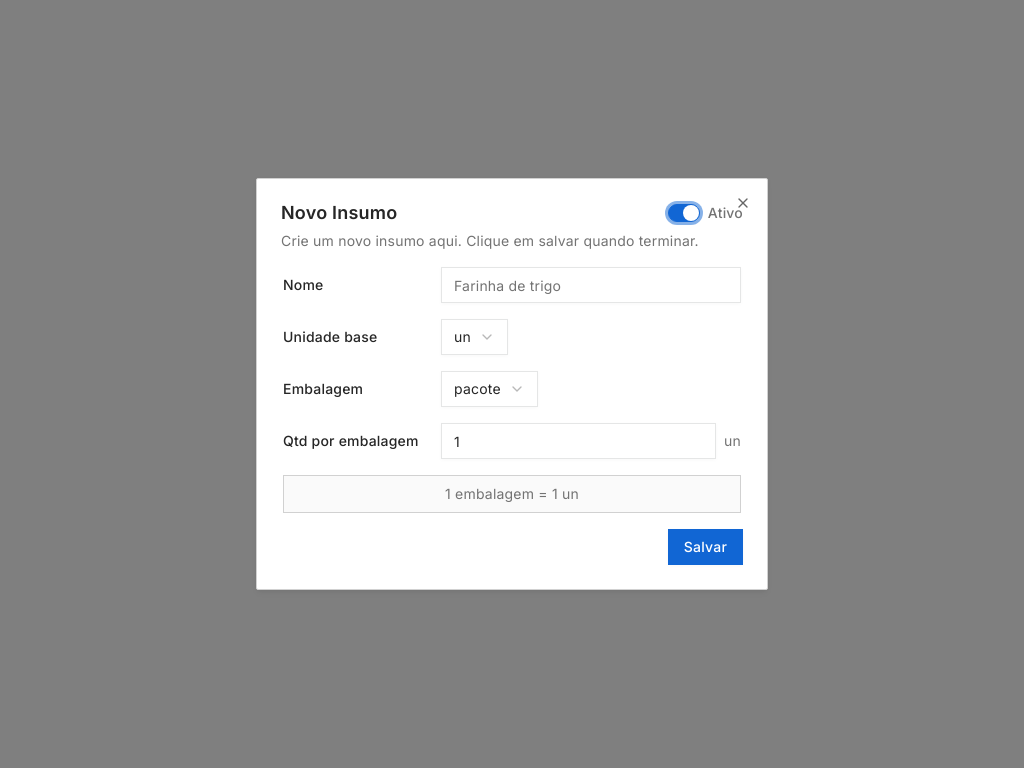
Test case: SuppliesActionDialog › validates required fields before submitting
Clear the field labelled "Nome" at (591, 285), box left=441, top=267, right=741, bottom=303
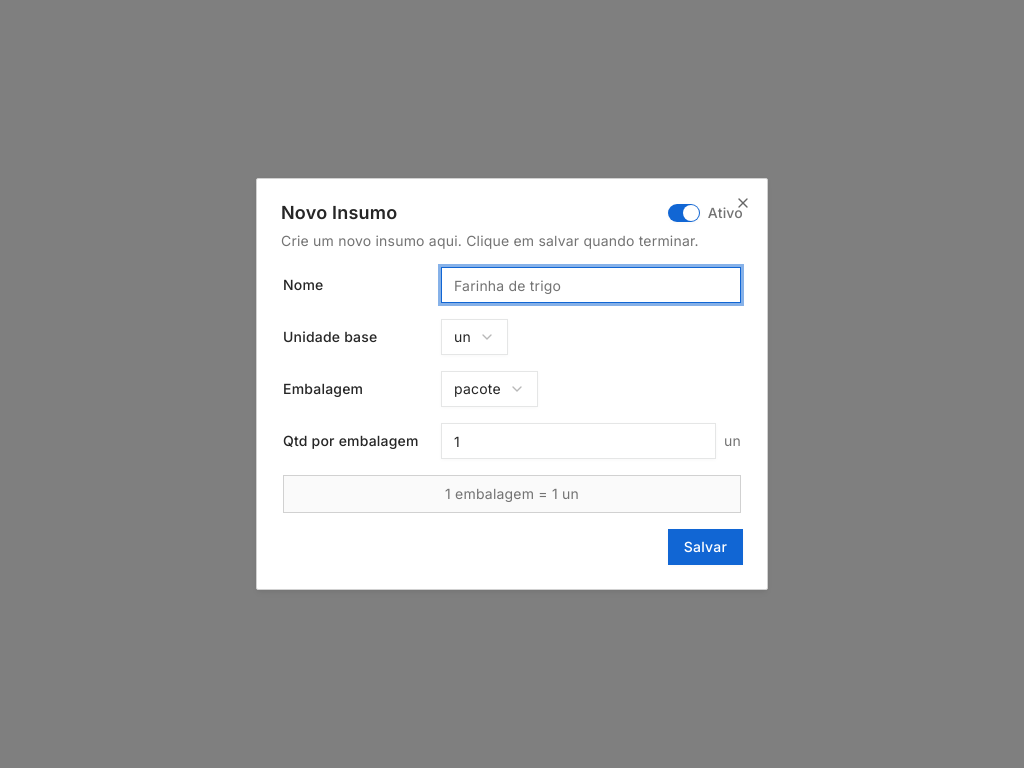
Click the button "Salvar" at (705, 547), box left=668, top=529, right=743, bottom=565
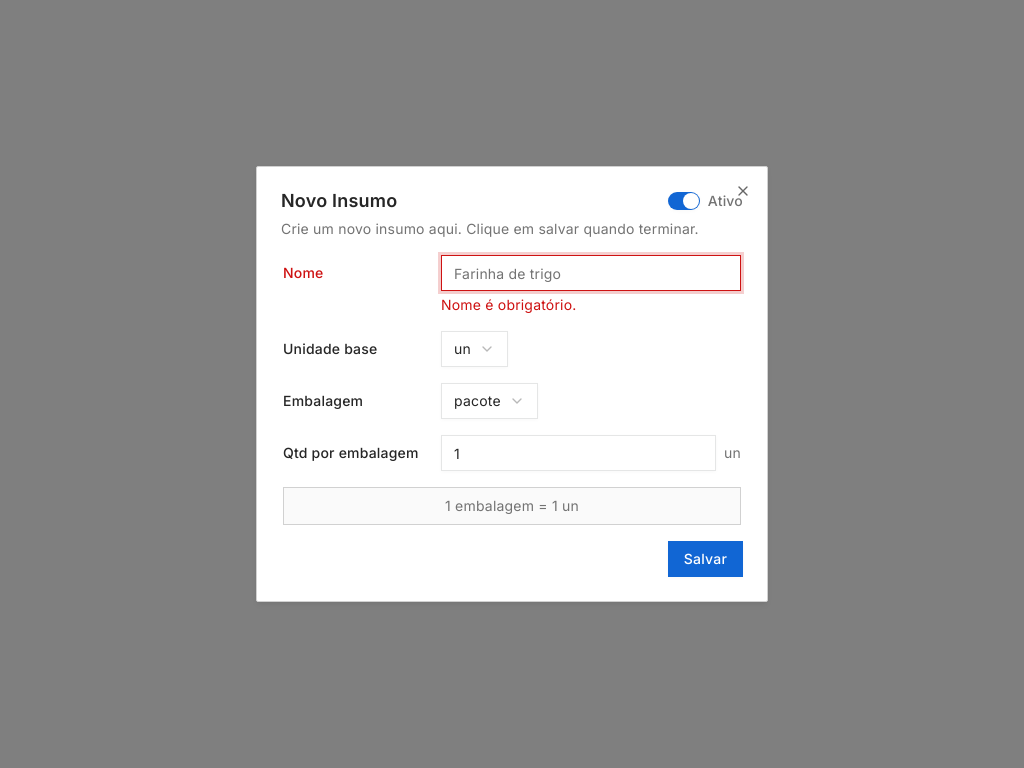
Expected: the text "Nome é obrigatório." is shown, left=441, top=296, right=576, bottom=313
